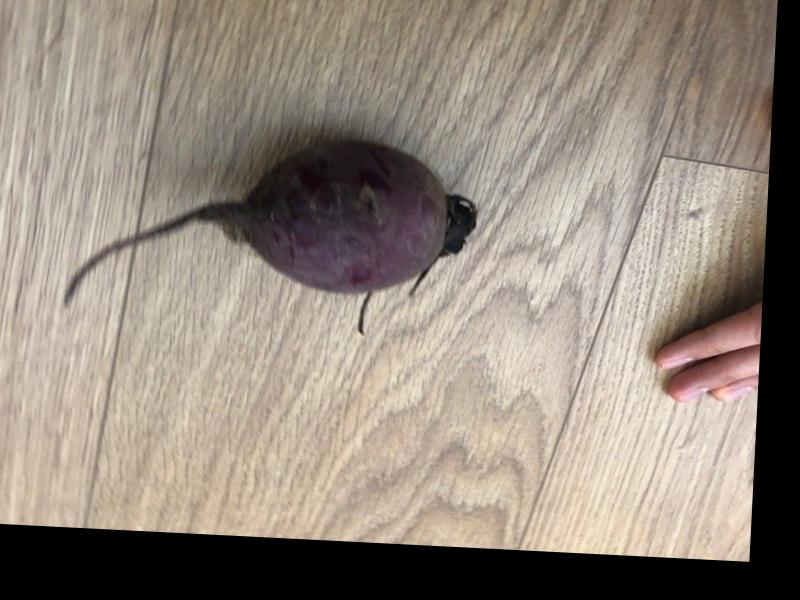Beet: (61, 129, 478, 338)
